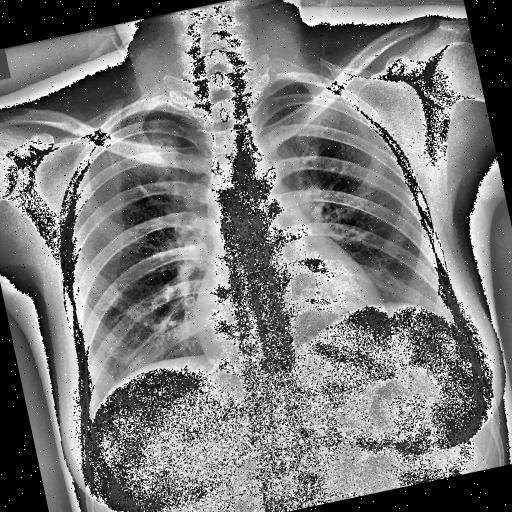13- Pulmonary fibrosis: (132, 180, 162, 212), (130, 172, 152, 200)
9- Other lesion: (127, 174, 159, 210)
